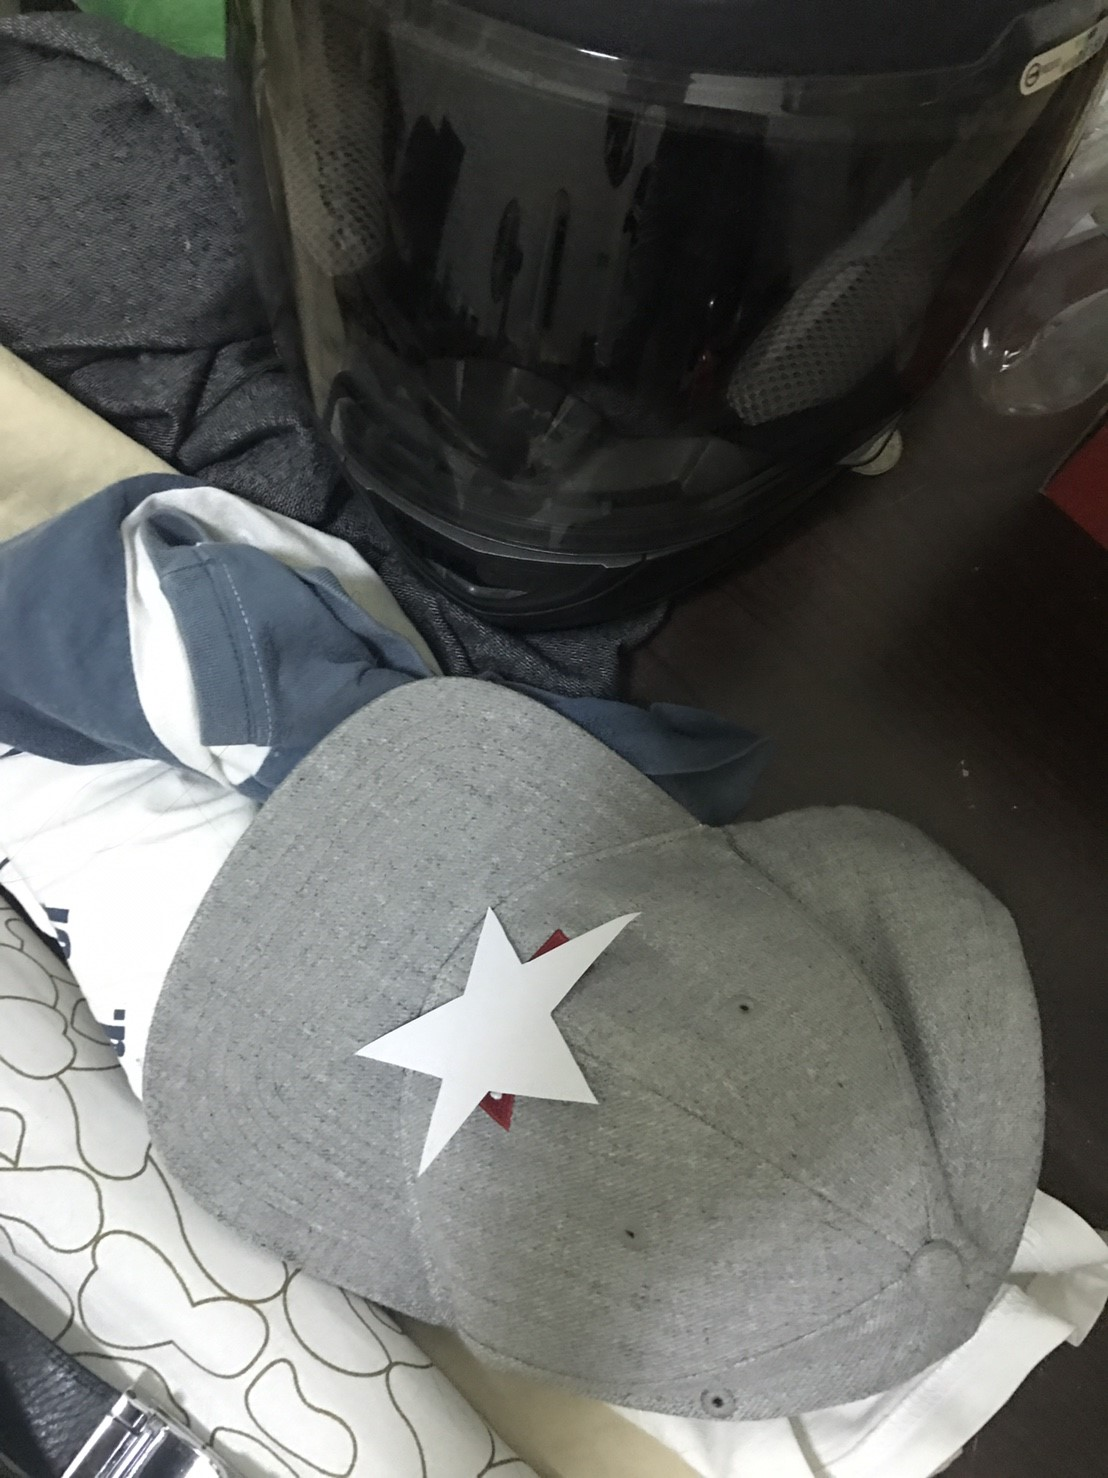star: (348, 893, 655, 1180)
